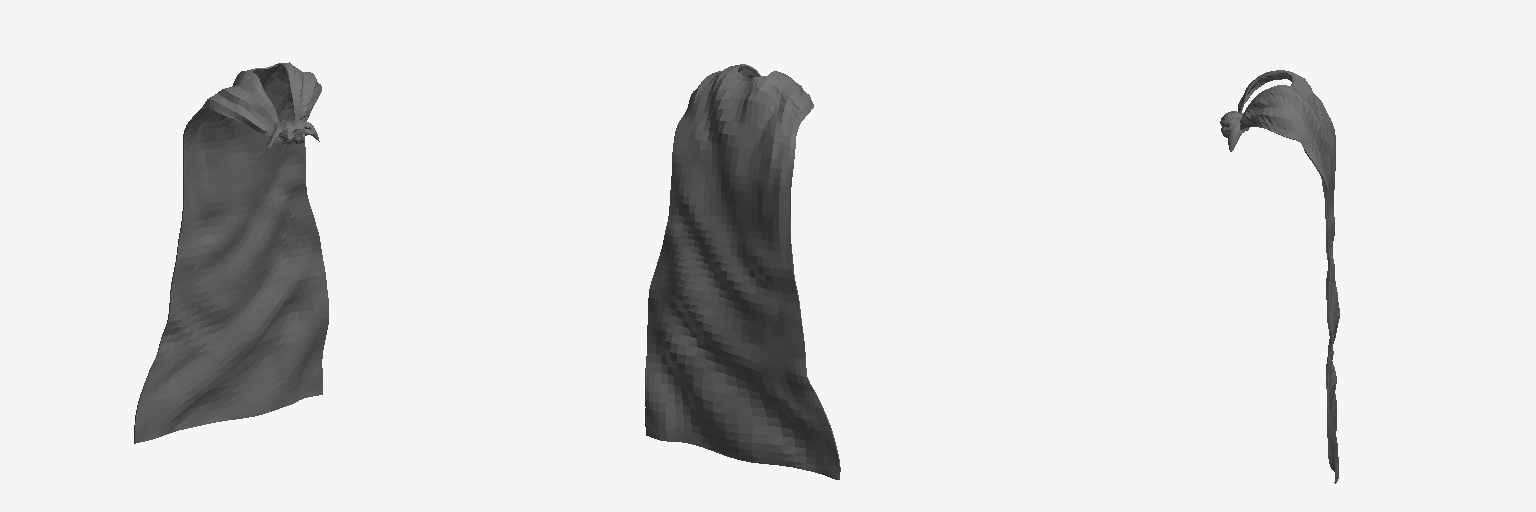
Rendered from capaHIGH.obj.
The picture shows the model from 3 angles: view 1: azimuth 30°, elevation 25°; view 2: azimuth 150°, elevation 25°; view 3: azimuth 270°, elevation 25°; orthographic projection.
Parts seen in each view (by area): view 1: capa, nosess; view 2: capa; view 3: capa, nosess.
Boxes of the visible parts, <box> form: capa: <box>134,62,328,443</box>; nosess: <box>267,119,319,149</box>; capa: <box>645,64,840,479</box>; capa: <box>1238,70,1339,483</box>; nosess: <box>1220,111,1248,151</box>.
Size of the model in its own units: 0.6889 by 1.25 by 0.3702.